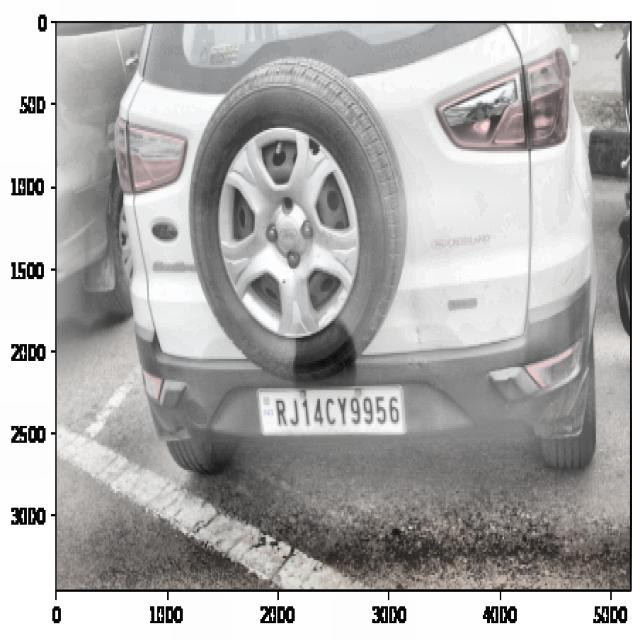license_plate: (266, 382, 404, 442)
